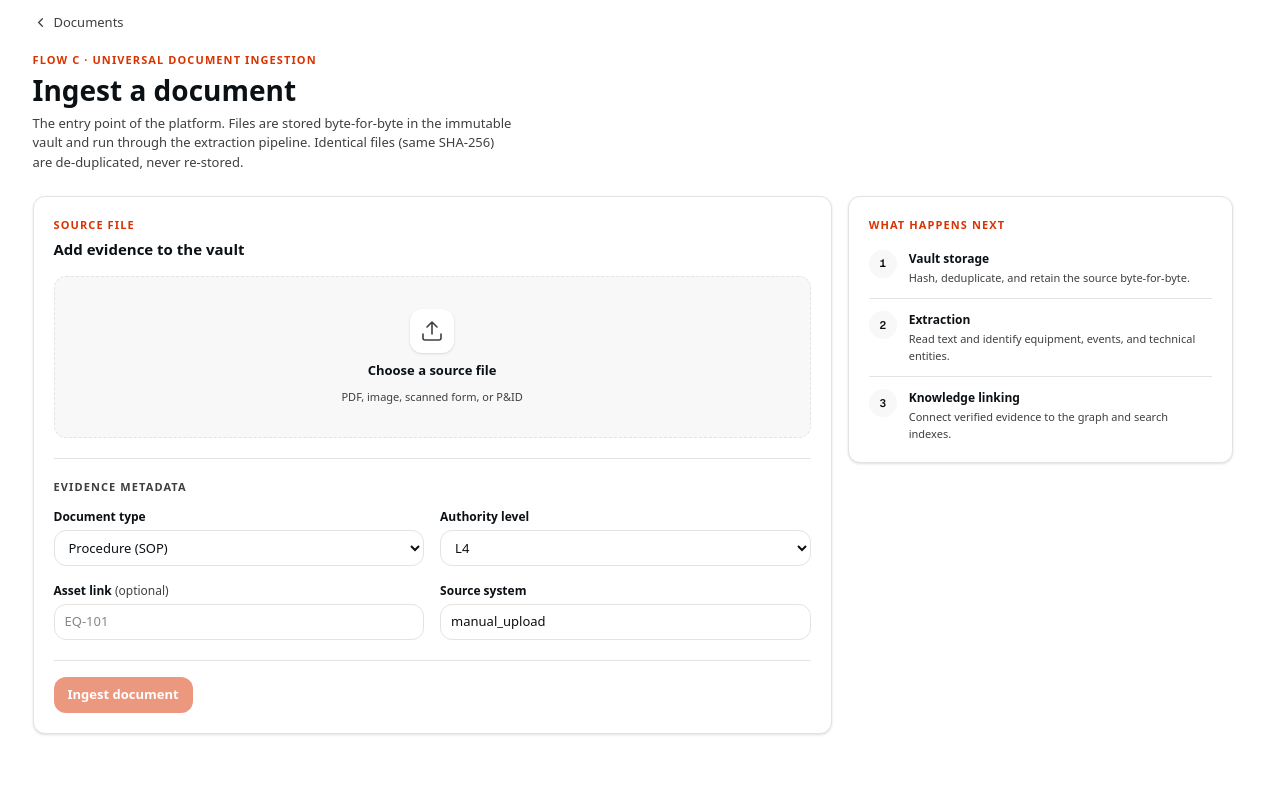
it: IngestPage › defaults the authority level from the chosen document type
Select "Regulation" in the dropdown labelled "Document type". click: (239, 548)
box: [54,530,424,566]
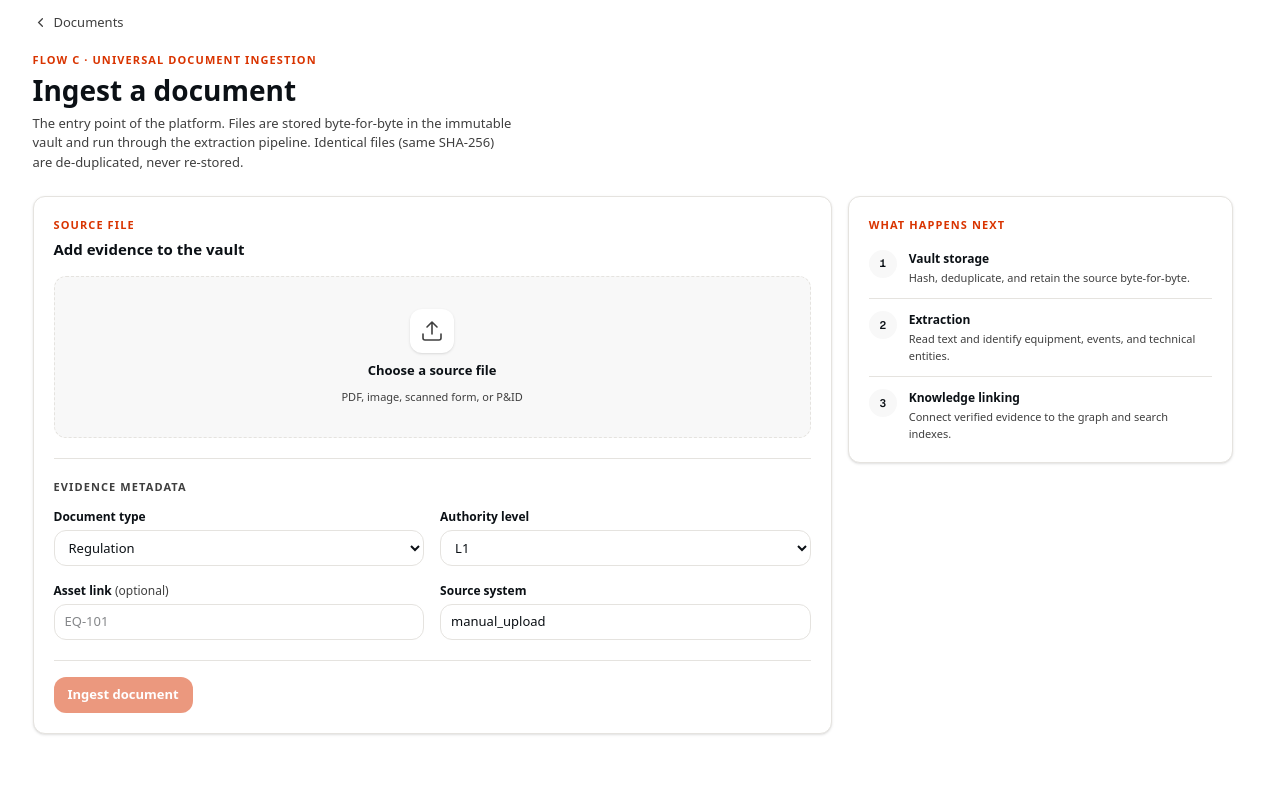
Check: the dropdown labelled "Authority level" shows "L1", box [440,530,811,566]
